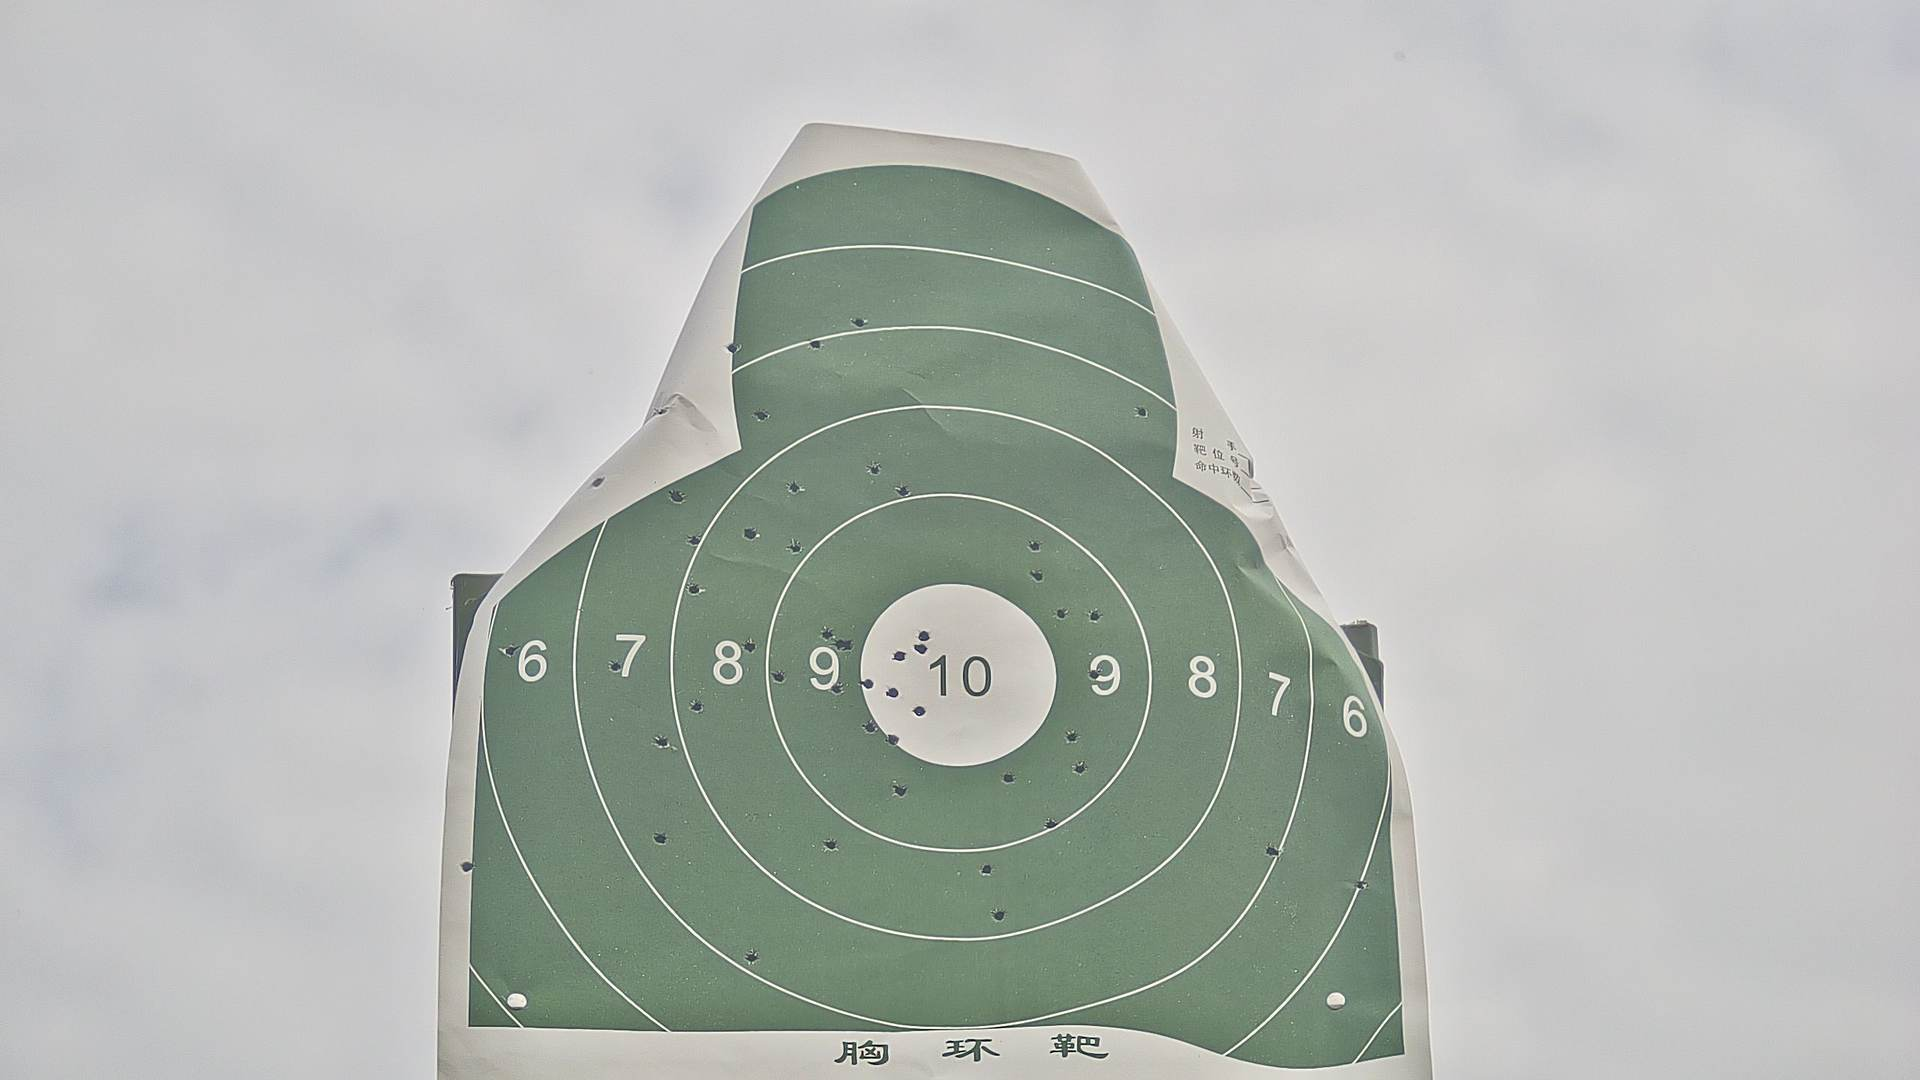hole: (893, 782, 909, 798), (460, 860, 477, 873), (589, 476, 607, 489), (1088, 608, 1102, 622), (1266, 844, 1280, 858), (829, 683, 845, 696), (745, 949, 758, 965), (651, 735, 666, 748), (891, 647, 905, 662), (1030, 567, 1043, 582), (742, 640, 756, 653), (607, 659, 620, 673), (651, 833, 665, 847), (690, 702, 704, 713), (773, 670, 785, 684), (728, 342, 741, 353), (671, 491, 684, 502), (1135, 406, 1149, 418), (1029, 541, 1042, 553), (824, 839, 837, 851), (913, 704, 924, 717), (1055, 608, 1068, 620), (980, 864, 993, 876), (992, 909, 1005, 920), (504, 642, 516, 655), (687, 584, 703, 593), (789, 483, 800, 495), (869, 464, 881, 476), (745, 527, 756, 541), (886, 732, 897, 745), (898, 485, 910, 496), (843, 640, 853, 651), (862, 678, 874, 688), (864, 723, 876, 733), (1068, 731, 1079, 742), (790, 541, 799, 554), (688, 534, 699, 545), (822, 629, 832, 640), (835, 638, 845, 649), (919, 630, 930, 641), (915, 642, 926, 653), (1075, 764, 1085, 774), (1004, 771, 1013, 783), (886, 687, 895, 698), (1046, 819, 1055, 829), (756, 411, 767, 419), (1091, 669, 1098, 680), (808, 342, 820, 348), (1358, 880, 1367, 887), (853, 318, 862, 324)
target: (465, 165, 1410, 1077)
ten: (858, 578, 1059, 765)
